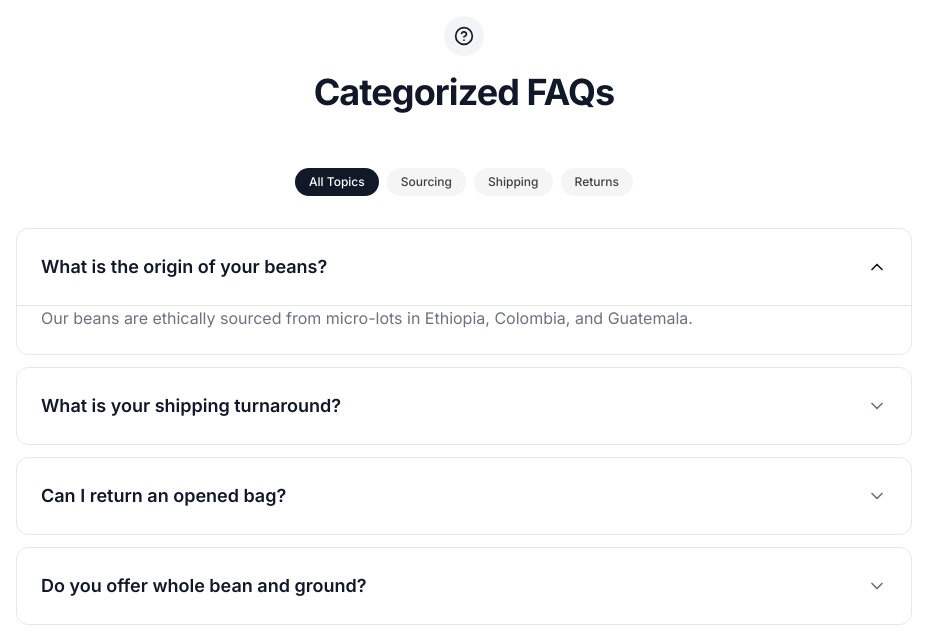
Test: Adversarial Stress Verification: SectionRenderer & Content Interactivity (Challenger M3-2) › FaqAccordion Interactivity & Keyboard Stress › category filtering pills filter items and handle "All Topics" reset
# Click 'Shipping'
Click the button "Shipping". click: (513, 182)
box: x1=474 y1=168 x2=552 y2=196
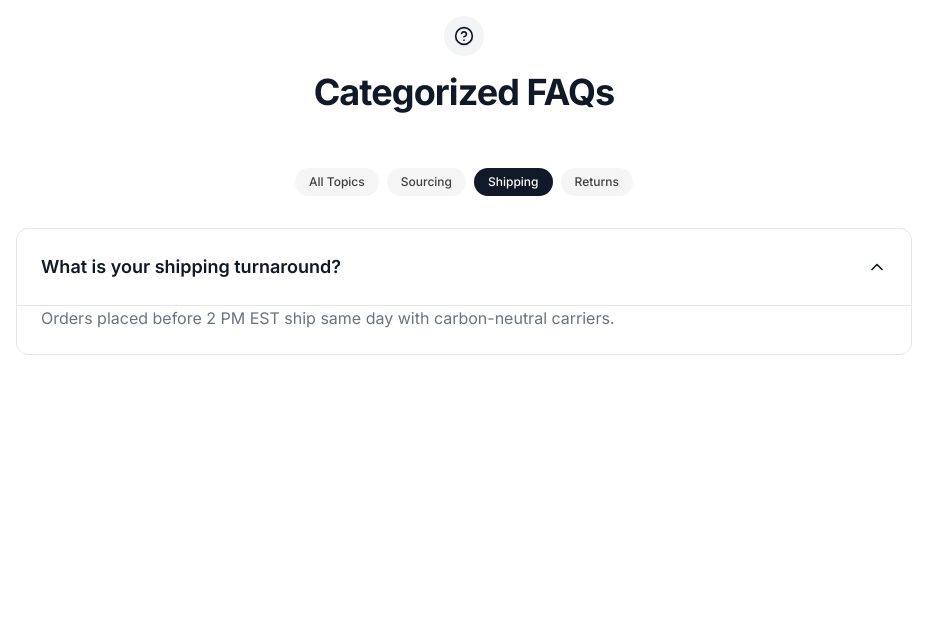
Result: the text "What is your shipping turnaround?" is shown at x1=41 y1=253 x2=357 y2=281
Result: the button "What is the origin of your beans?" is gone
# Click 'All Topics'
Click the button "All Topics". click: (337, 182)
box: x1=295 y1=168 x2=379 y2=196
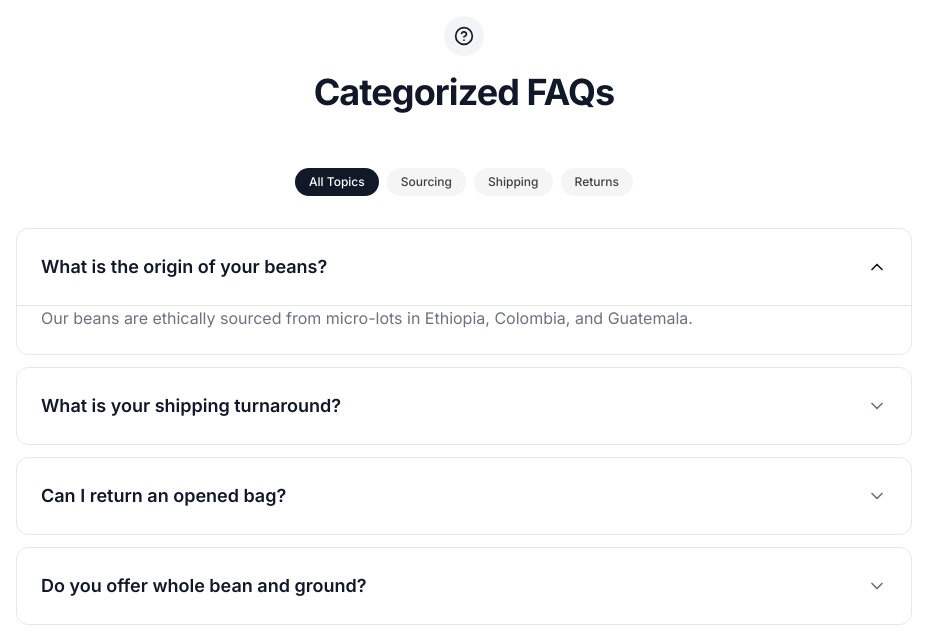
Expected: the text "What is your shipping turnaround?" is shown, x1=41 y1=392 x2=357 y2=420
Result: the text "What is the origin of your beans?" is shown at x1=41 y1=253 x2=343 y2=281
